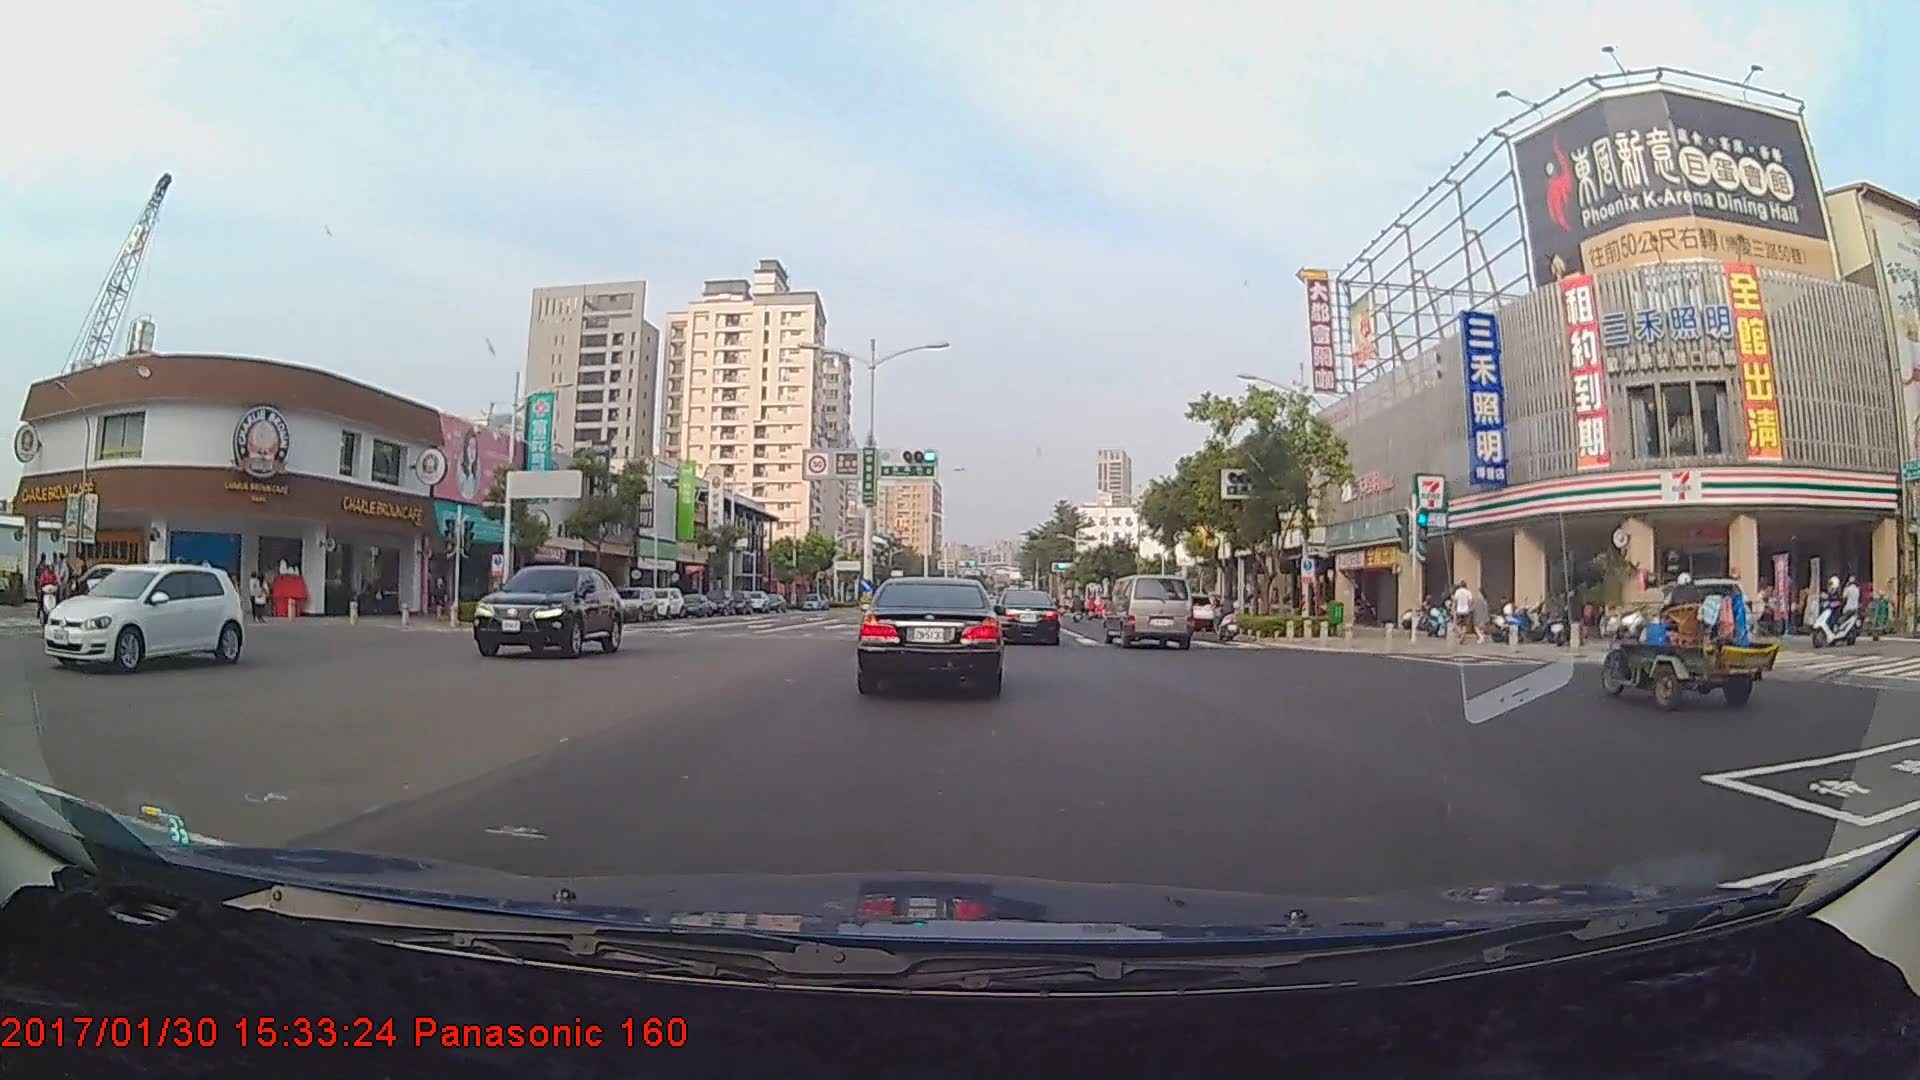pedestrian: (1452, 580, 1476, 646), (1470, 588, 1493, 648), (431, 574, 451, 622)
rider: (1802, 570, 1871, 651), (32, 556, 74, 632), (1214, 591, 1250, 648)
vehicle: (70, 557, 241, 668), (858, 571, 1005, 696), (476, 562, 620, 659), (1599, 574, 1746, 641), (1105, 574, 1193, 650), (992, 588, 1061, 646), (610, 583, 659, 621)
